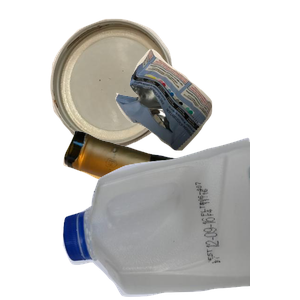glass: (60, 128, 300, 300)
metal: (47, 16, 214, 157)
plastic: (60, 135, 300, 300)
trash: (113, 46, 300, 189)
